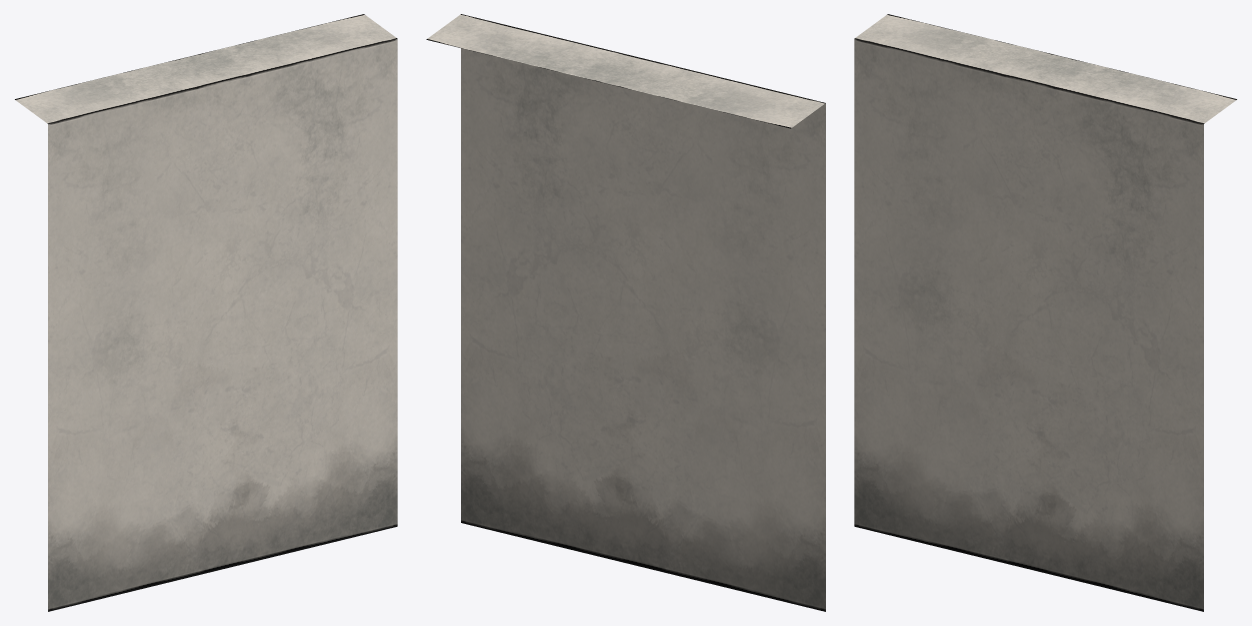
The model's file is motherRoom_wall_outer02.fbx.
The picture shows the model from 3 angles, left to right: view 1: azimuth 30°, elevation 25°; view 2: azimuth 150°, elevation 25°; view 3: azimuth 330°, elevation 25°; orthographic projection. The views are drawn at different scales.
Parts seen in each view (by area): view 1: motherRoom_wall_outer; view 2: motherRoom_wall_outer; view 3: motherRoom_wall_outer.
Part boxes in pixels (bbox=[...]): motherRoom_wall_outer: bbox=[15, 14, 397, 611]; motherRoom_wall_outer: bbox=[426, 14, 825, 611]; motherRoom_wall_outer: bbox=[854, 14, 1236, 611].
Bounding box in the file's own units: 300 × 400 × 50.
